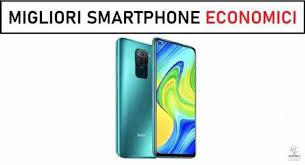Smartphone: (154, 42, 199, 158), (118, 39, 155, 160)
